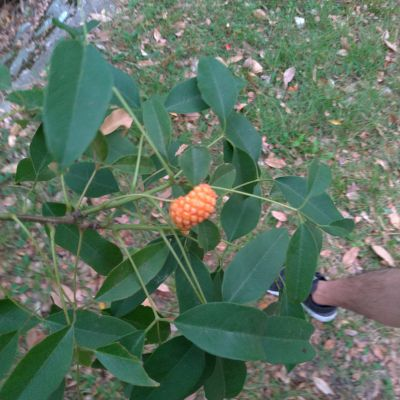eggs: (166, 181, 224, 229)
